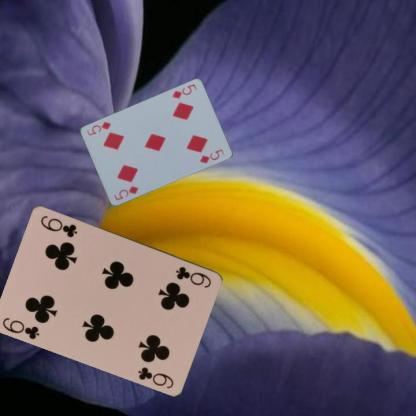5d: (169, 81, 198, 100), (111, 183, 139, 202)
6c: (0, 315, 41, 341), (172, 263, 212, 289)
